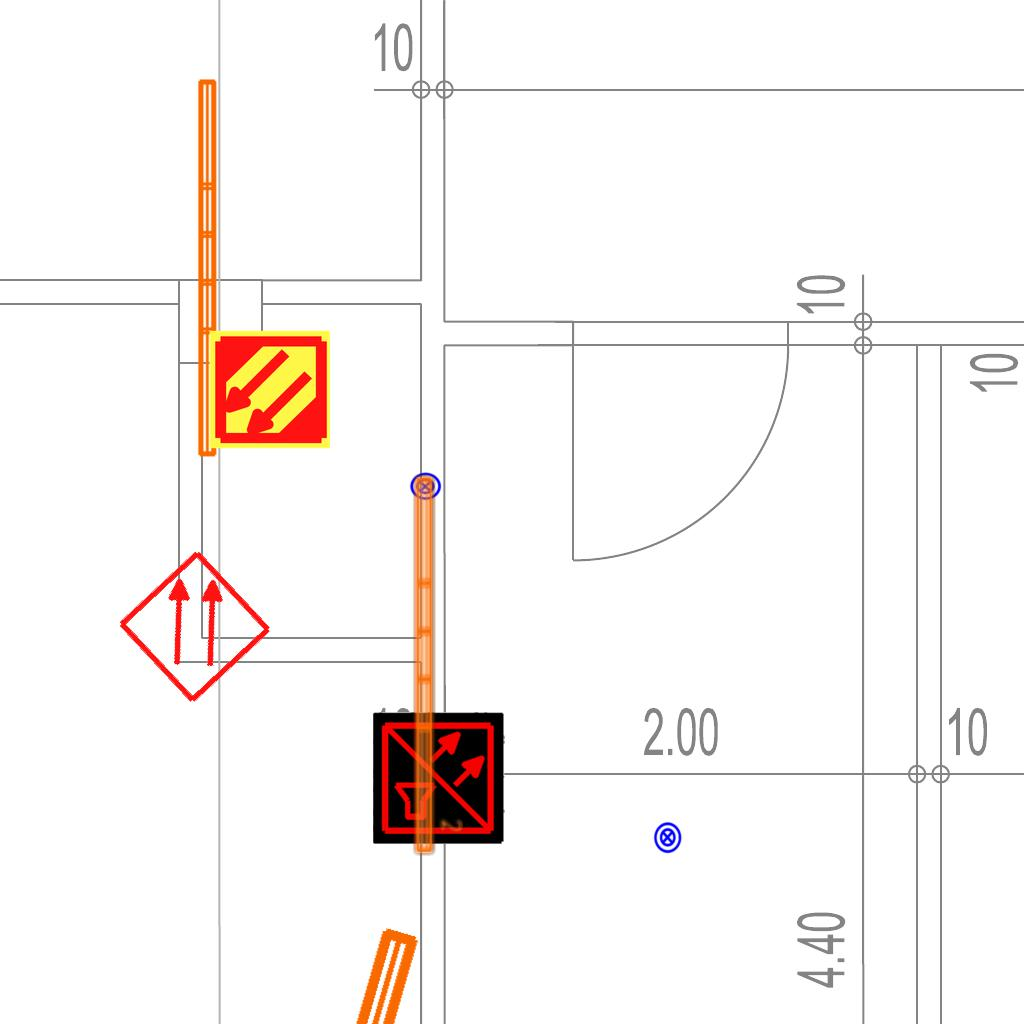ASR_Ansaugrauchmelder: (207, 327, 332, 452)
Ambulanz_Pendelleuchte_LED: (161, 913, 483, 1024), (192, 74, 248, 461), (409, 471, 465, 858)
OKW_Multisensormelder_(Kombination_optischer_Rauch-Kahlenmonoxid_Waerme-Melder): (373, 712, 505, 844)
RMO_Rauchmelder_optischer: (114, 546, 275, 707)
Taster_beleuchtet: (409, 470, 442, 503), (651, 821, 684, 854)
